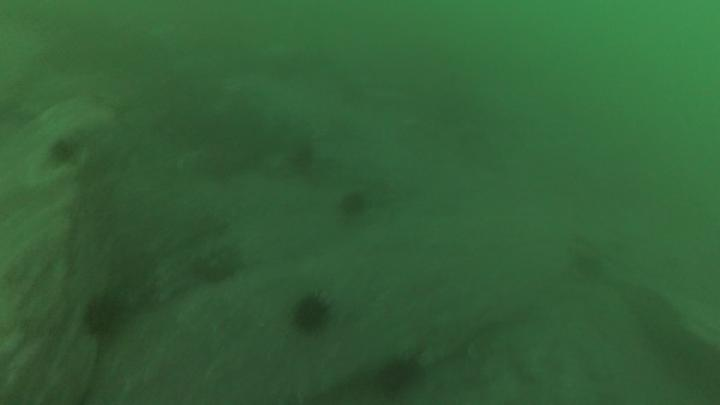echinus: (88, 297, 122, 337), (382, 362, 413, 398), (294, 299, 326, 331), (48, 140, 79, 168), (341, 194, 364, 211)
